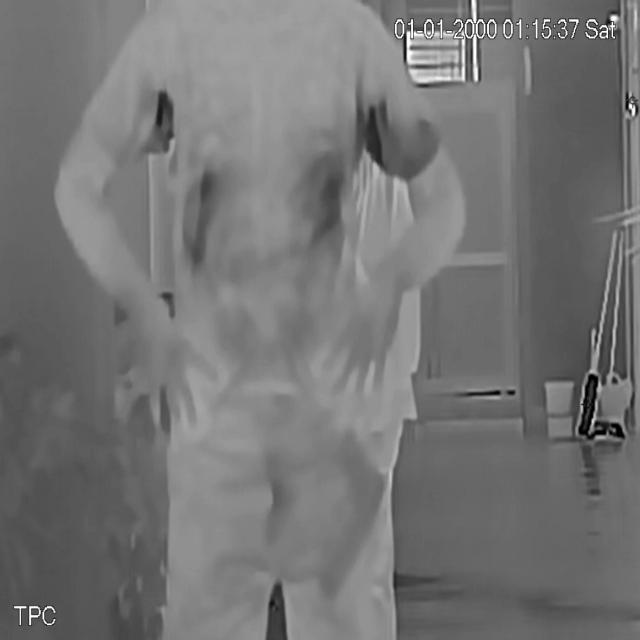Weapon: (306, 428, 406, 613)
